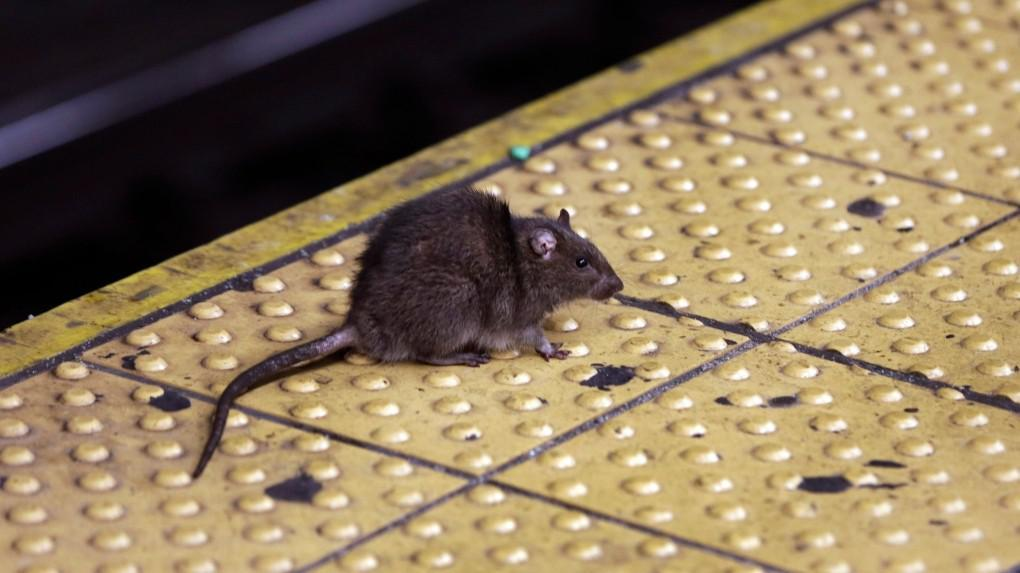rat: (189, 188, 624, 480)
